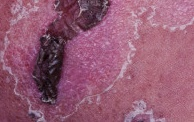SJS-TEN: (1, 0, 193, 121)
